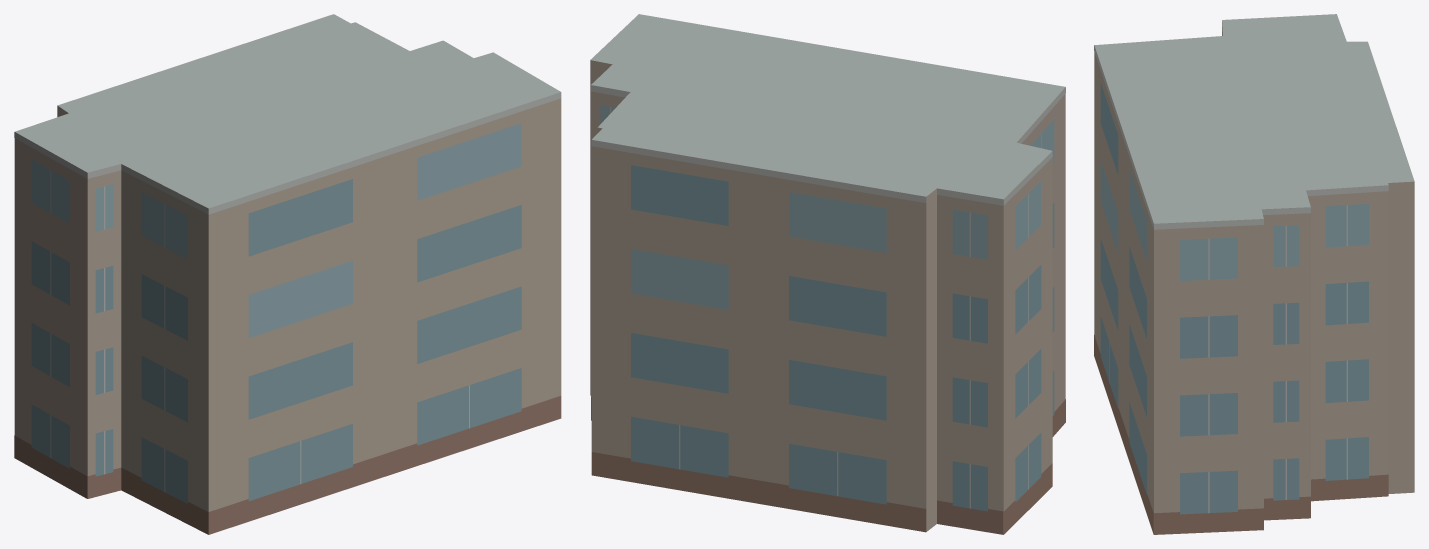
The model's file is survey-upis-32972012.glb.
3 views of the same model, side by side, from view 1: azimuth 30°, elevation 25°; view 2: azimuth 150°, elevation 25°; view 3: azimuth 270°, elevation 25° (orthographic). The views are drawn at different scales.
Parts seen in each view (by area): view 1: survey-upis-32972012.tmp; view 2: survey-upis-32972012.tmp; view 3: survey-upis-32972012.tmp.
Boxes of the visible parts, x1,y1,x2,y2 form: survey-upis-32972012.tmp: (14,14,561,534); survey-upis-32972012.tmp: (590,14,1065,534); survey-upis-32972012.tmp: (1094,14,1414,534).
Size of the model in its own units: 18.51 by 12.8 by 11.96.
